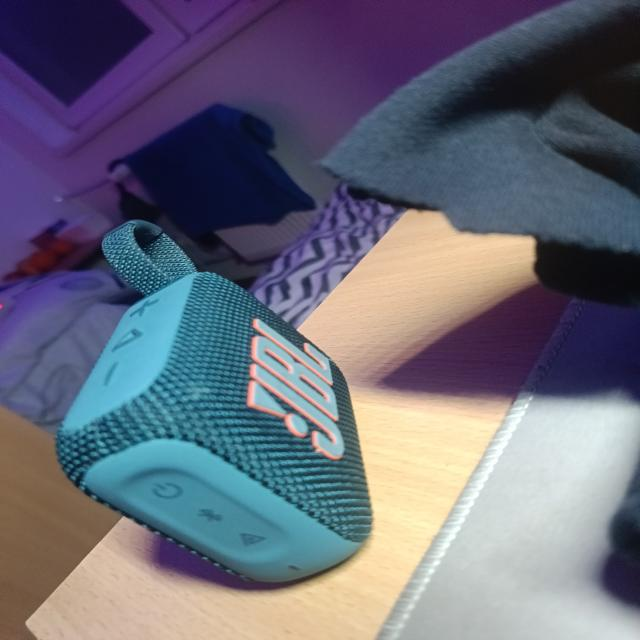column JBL: (56, 221, 372, 583)
